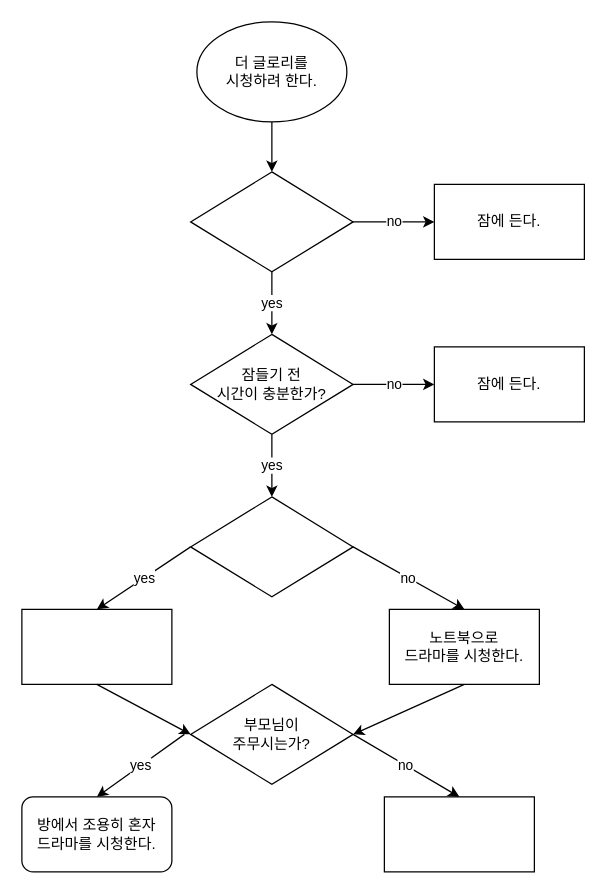
Image size: 606x894. Some labels were removed from this diagram. Here are the shapes that lost their labels. From the top down, the centre of each, then its label:
At (271,221): "드라마가 보고 싶은가?".
At (271,546): "핸드폰 배터리가 45프로 이상인가?".
At (96,646): "핸드폰으로 드라마를 시청한다.".
At (458,834): "부엌에서 야식을 먹으며 드라마를 시청한다.".
